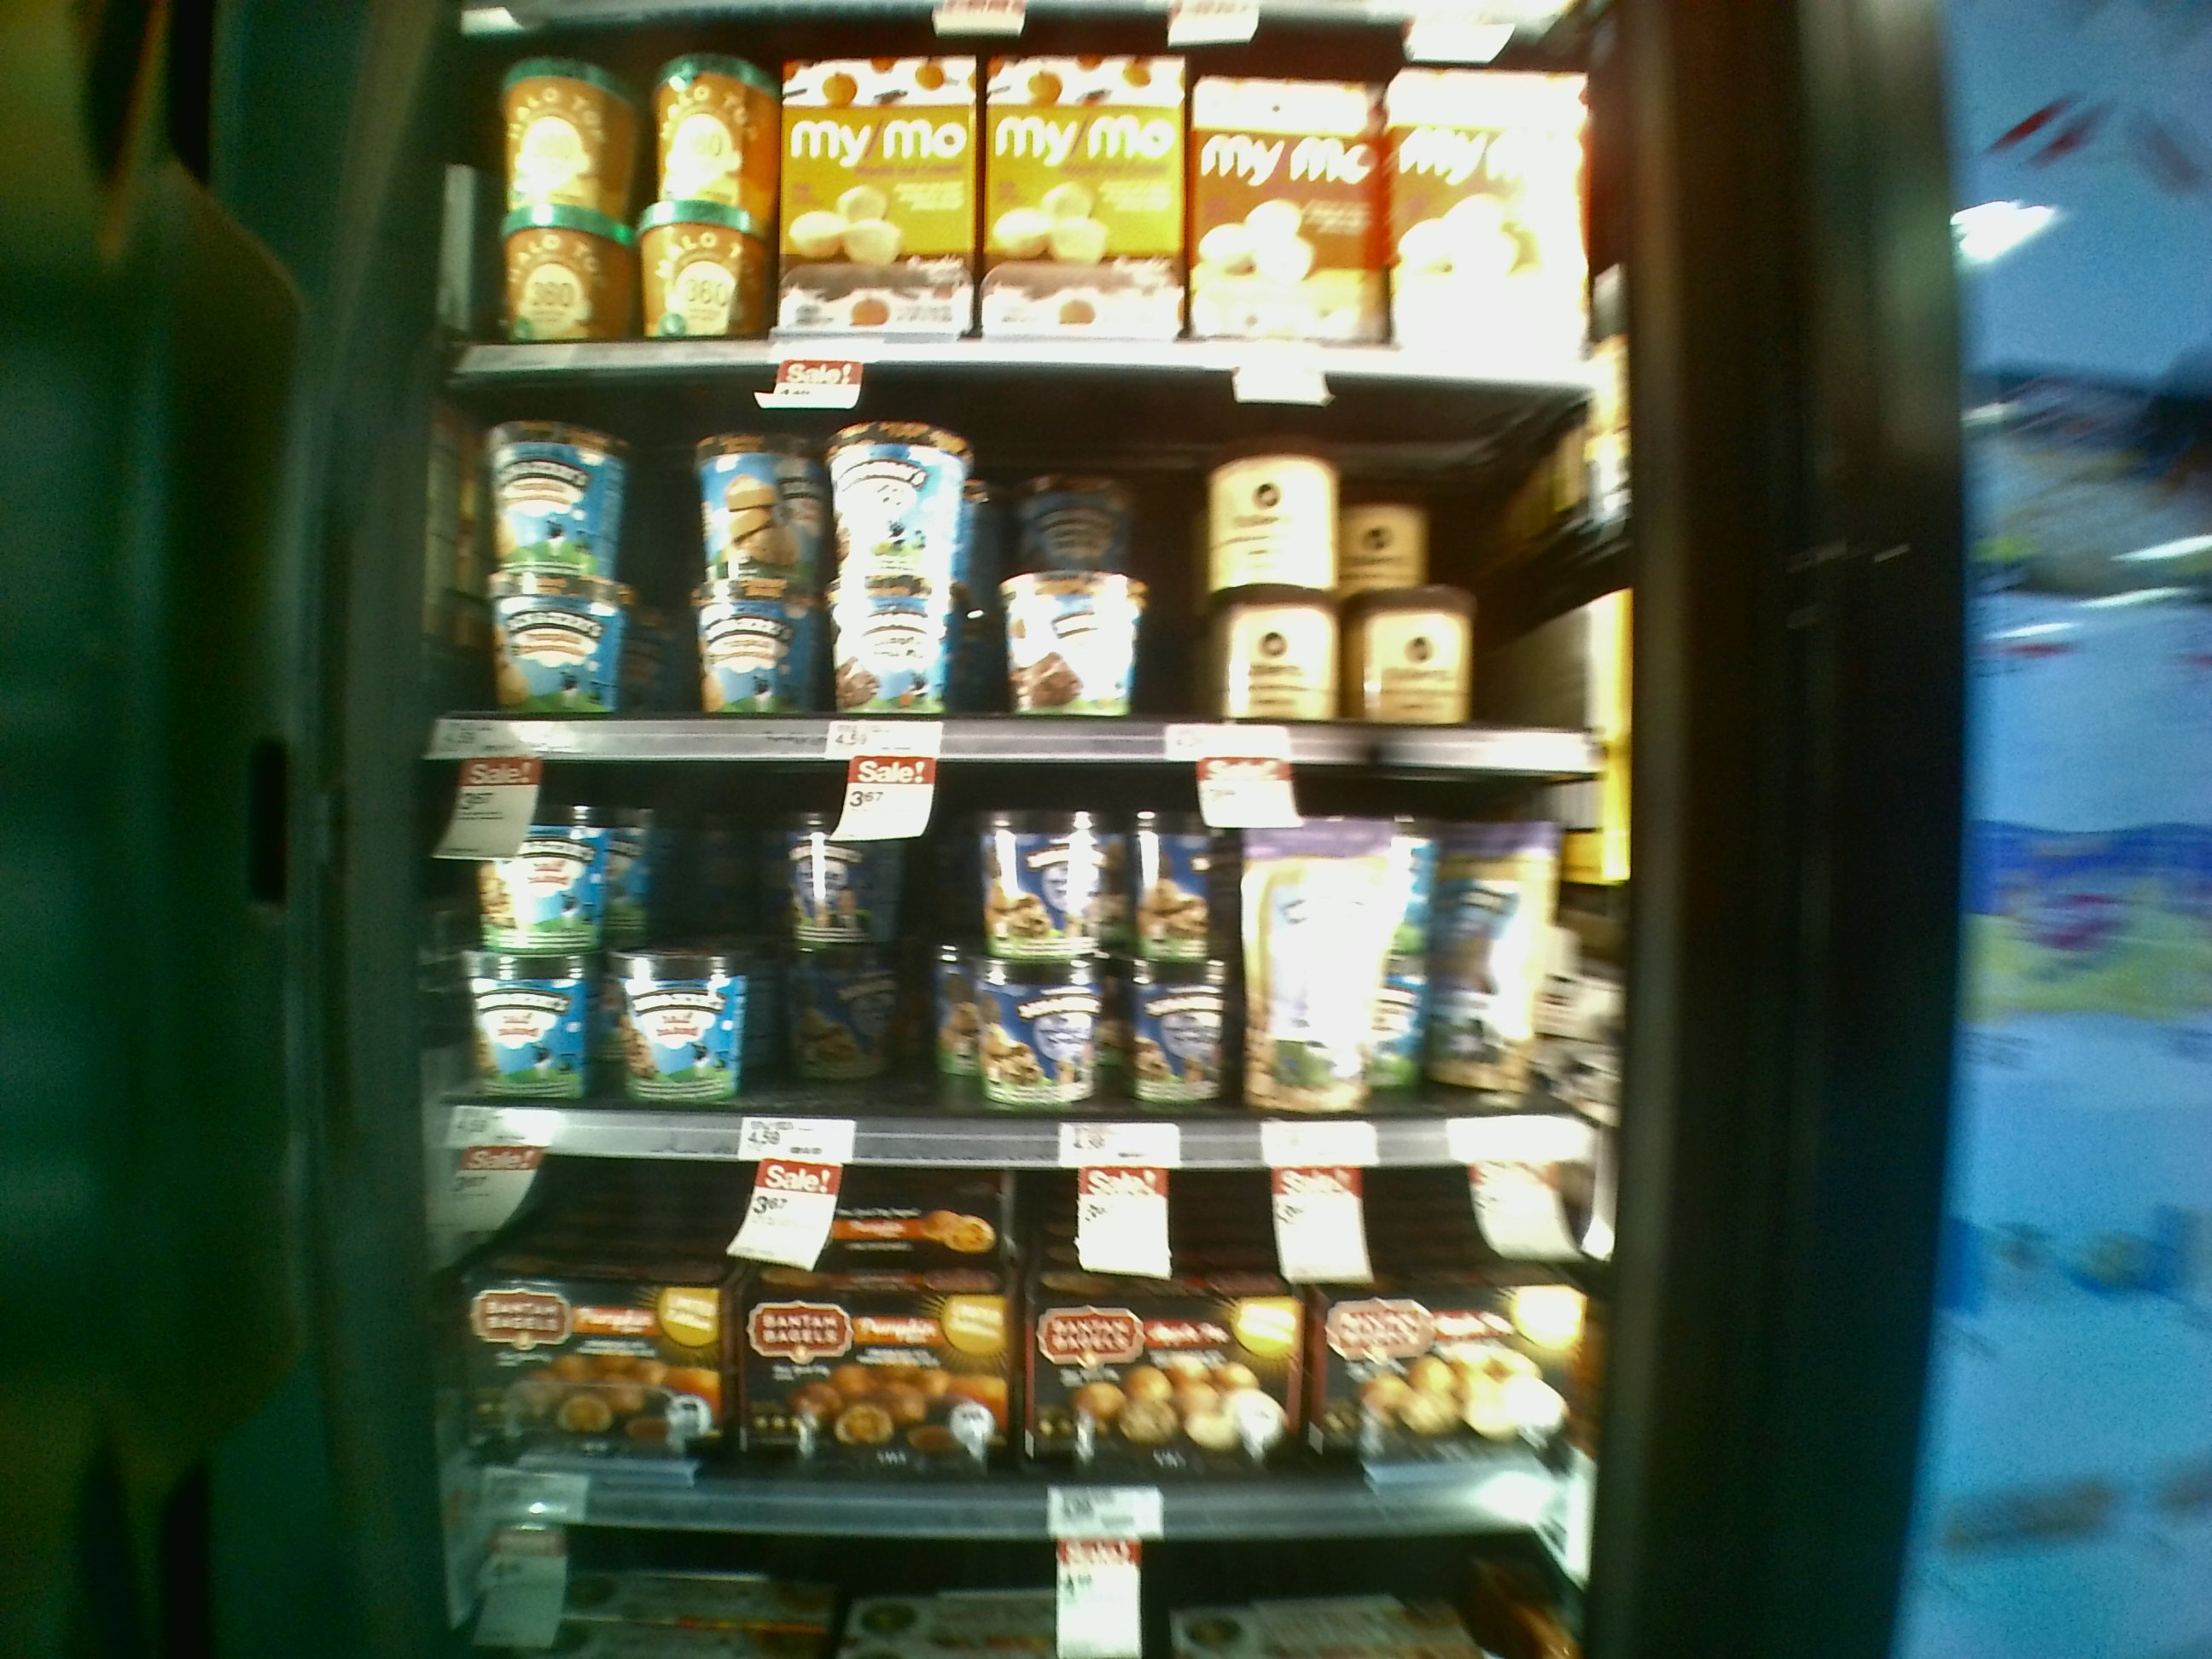shelf: (427, 333, 1655, 791), (413, 755, 1616, 1182), (404, 1127, 1599, 1532)
